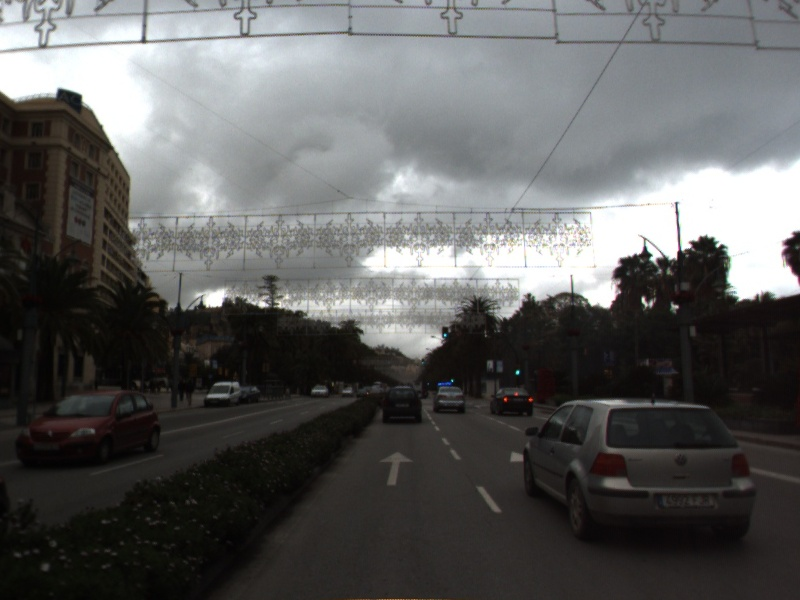STRAIGHT: (377, 450, 416, 487)
